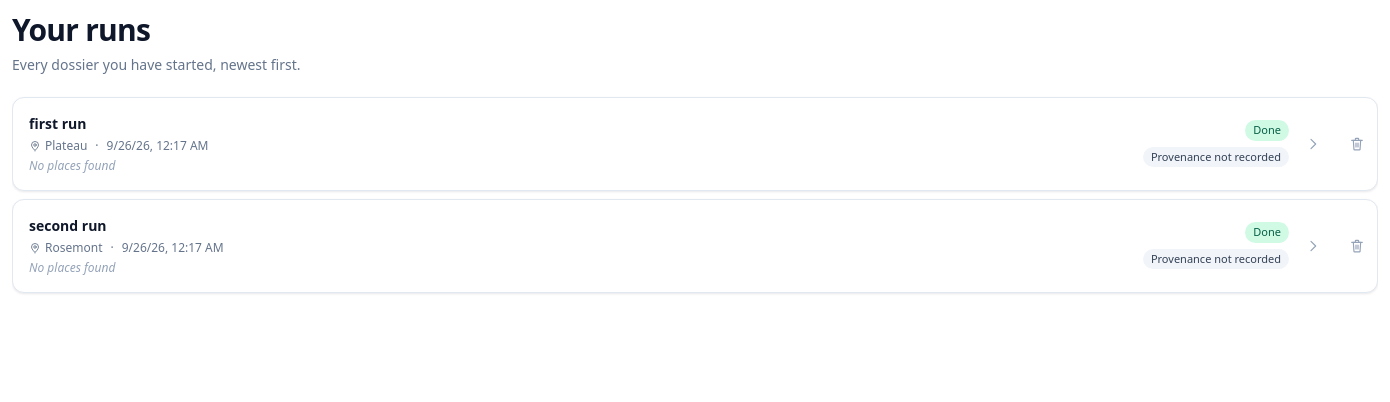
Scenario: <JobHistory /> deleting a run › keeps the row and says so when the server refuses
Check: the text "first run" is shown, box [29,114,86,133]
Click the button named "Delete this run" in the row of "Plateau" at [1357, 144], box [1337,98,1377,190]
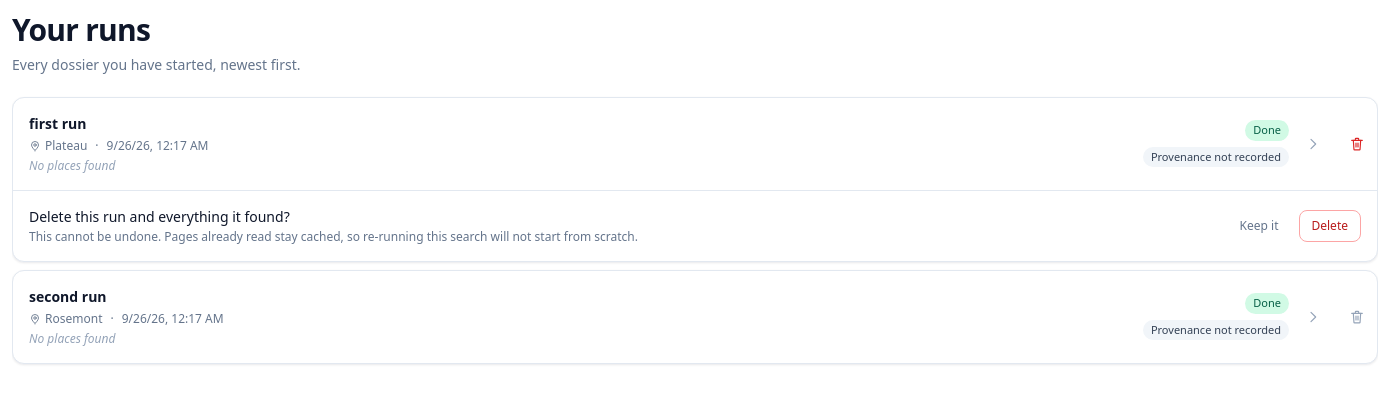
Click the button "Delete" at [1330, 226], box [1298,210,1361,242]
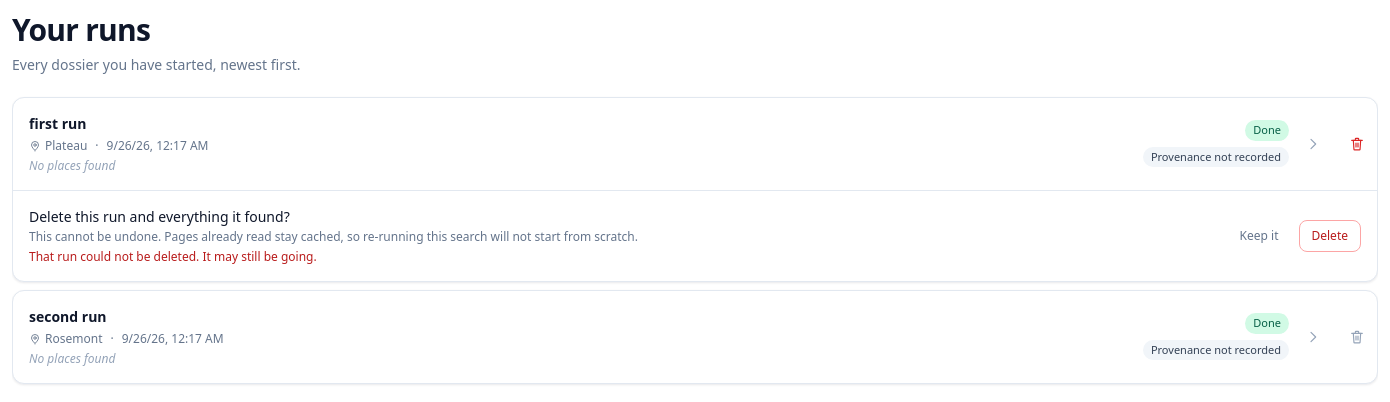
Check: the text "first run" is shown, box [29,114,86,133]
Check: the text "That run could not be deleted. It may still be going." is shown, box [29,248,317,265]
